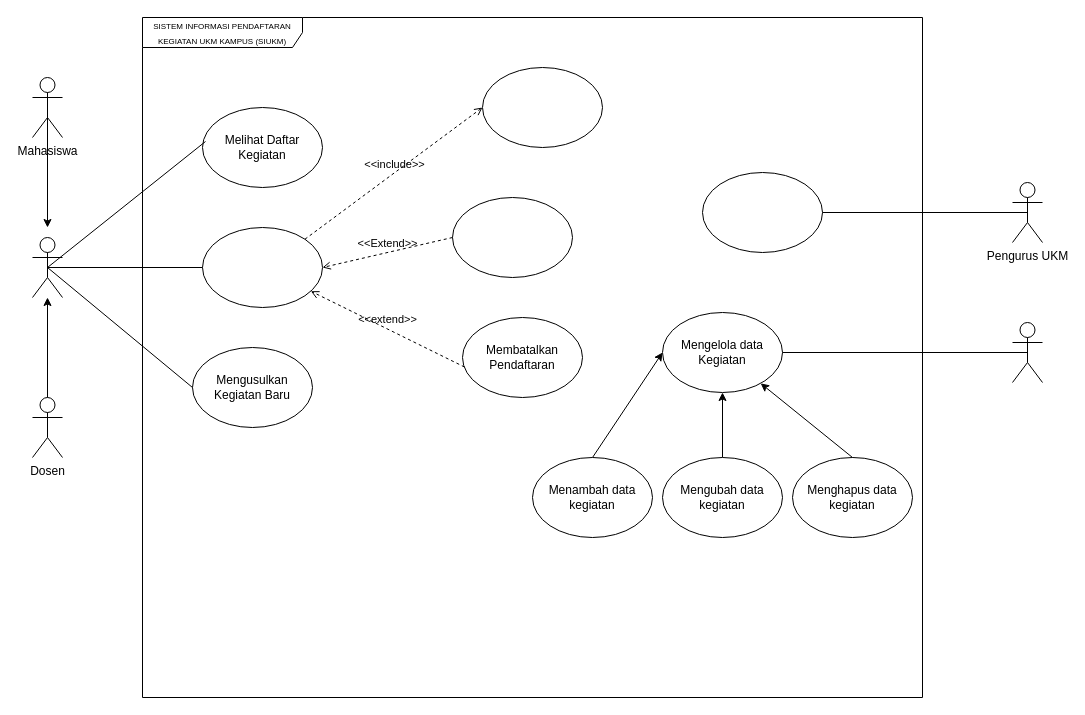
The diagram is 1085 pixels wide and 715 high, and some of its shapes have lost their labels. The shapes that lost their labels are listed below. From the top down, each one's centre as x and y in pixels, then its label:
At point 542,107: "Memeriksa kuota peserta".
At point 762,212: "Menyetujui usulan kegiatan".
At point 512,237: "Mencetak Kartu Peserta".
At point 47,267: "Peserta".
At point 262,267: "Mendaftar kegiatan".
At point 1027,352: "Pembina UKM".
